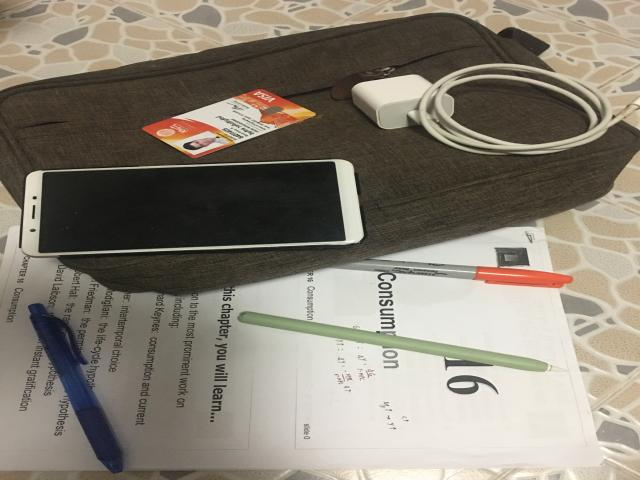Mobile phone: (22, 159, 363, 257)
Pen: (28, 304, 123, 472), (333, 259, 573, 288)
paper: (0, 225, 603, 471)
